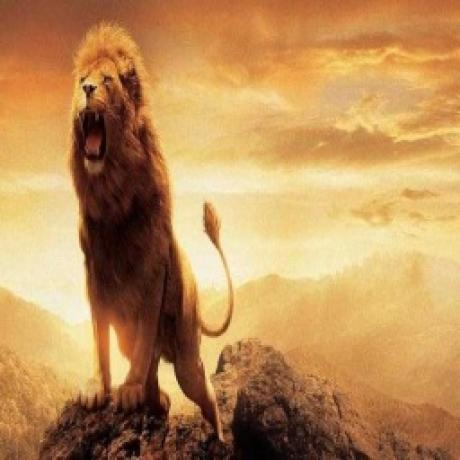Lion: (69, 23, 239, 435)
